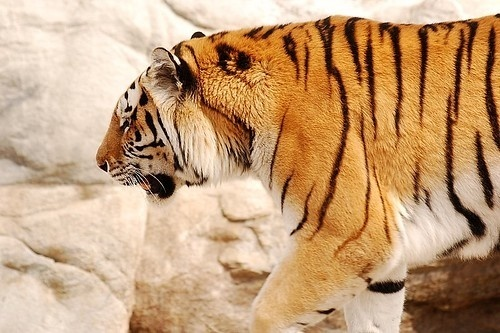tigre: (92, 10, 500, 332)
